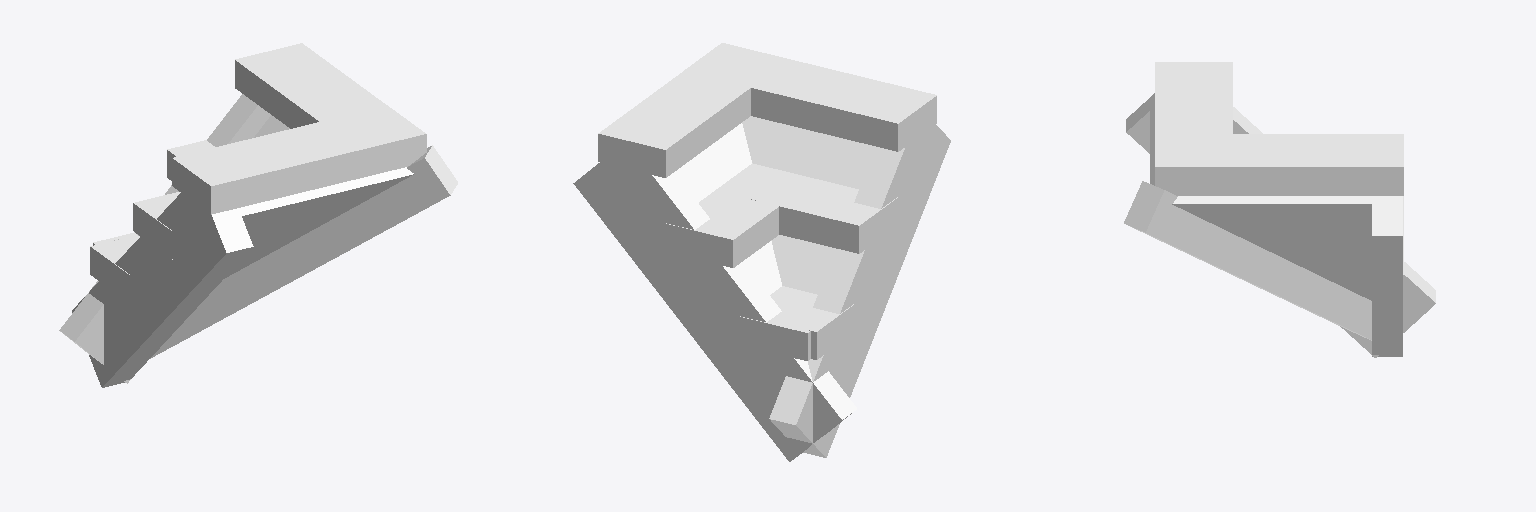
The model's file is mt_steps_b_inner.obj.
3 views of the same model, side by side, from view 1: azimuth 30°, elevation 25°; view 2: azimuth 150°, elevation 25°; view 3: azimuth 270°, elevation 25° (orthographic).
Visible parts, largest first — view 1: cube.003, cube.001, cube.009, cube.006, cube.002, cube.007, cube, cube.000, cube.005; view 2: cube.007, cube.001, cube.003, cube.006, cube.002, cube.000, cube.005, cube.008, cube, cube.004; view 3: cube.008, cube.006, cube.003, cube.009, cube.007, cube.001.
Boxes of the visible parts, <box> form: cube.003: <box>172,105,426,214</box>; cube.001: <box>72,193,253,387</box>; cube.009: <box>150,145,457,358</box>; cube.006: <box>235,43,386,128</box>; cube.002: <box>224,167,413,278</box>; cube.007: <box>59,94,270,383</box>; cube: <box>90,235,139,302</box>; cube.000: <box>133,192,180,259</box>; cube.005: <box>167,140,214,180</box>; cube.007: <box>573,162,856,461</box>; cube.001: <box>769,125,950,457</box>; cube.003: <box>684,43,936,151</box>; cube.006: <box>598,71,750,177</box>; cube.002: <box>742,116,875,294</box>; cube.000: <box>715,163,897,253</box>; cube.005: <box>666,191,778,267</box>; cube.008: <box>675,123,781,294</box>; cube: <box>769,286,855,359</box>; cube.004: <box>740,316,810,360</box>; cube.008: <box>1172,196,1371,300</box>; cube.006: <box>1233,134,1403,195</box>; cube.003: <box>1155,62,1232,195</box>; cube.009: <box>1124,181,1371,340</box>; cube.007: <box>1372,196,1402,356</box>; cube.001: <box>1126,93,1435,357</box>.
Size of the model in its own units: 1.25 by 1.25 by 1.25.